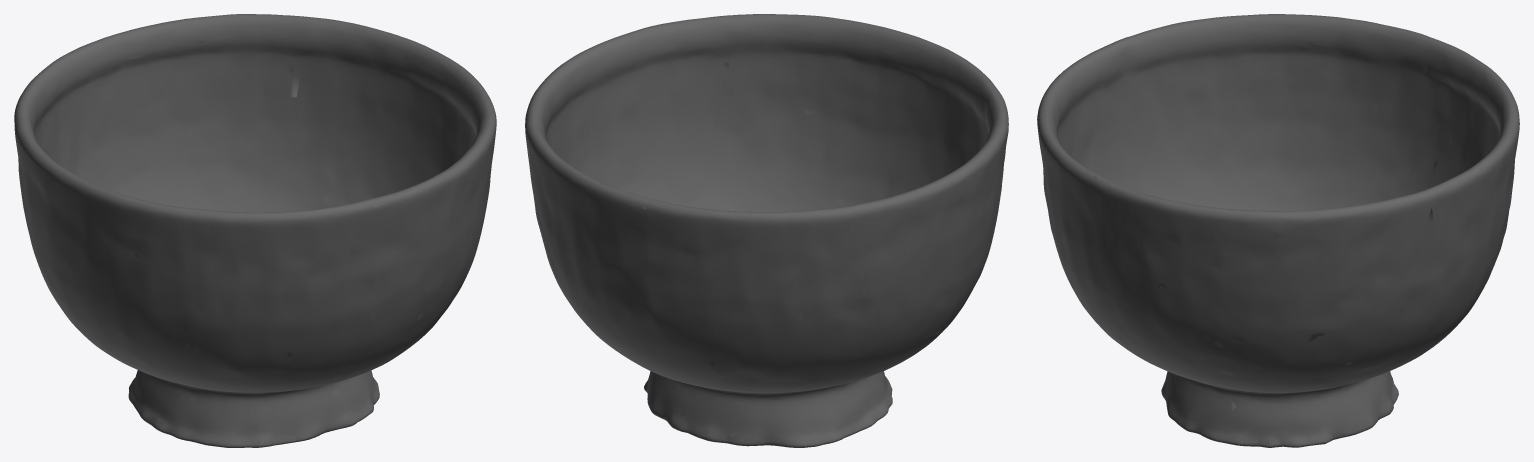
The picture shows the model from 3 angles, left to right: view 1: azimuth 30°, elevation 25°; view 2: azimuth 150°, elevation 25°; view 3: azimuth 270°, elevation 25°; orthographic projection.
Parts seen in each view (by area): view 1: mesh_uvwarp; view 2: mesh_uvwarp; view 3: mesh_uvwarp.
Boxes of the visible parts, x1,y1,x2,y2 form: mesh_uvwarp: (14, 14, 496, 447); mesh_uvwarp: (525, 14, 1008, 447); mesh_uvwarp: (1037, 14, 1519, 447).
Size of the model in its own units: 2 by 1.3 by 2.
1 material, 1 textured.
